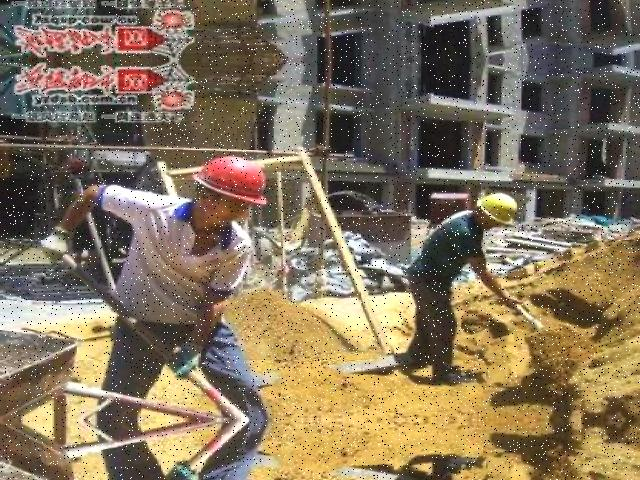Helmet: (184, 150, 278, 213), (469, 188, 520, 228)
